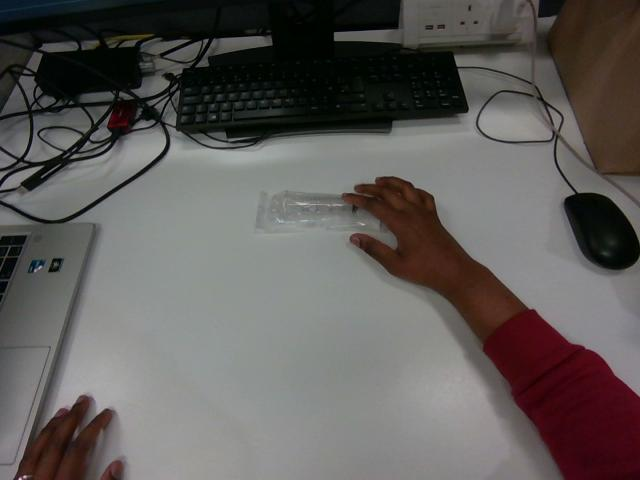syringe: (255, 191, 381, 232)
